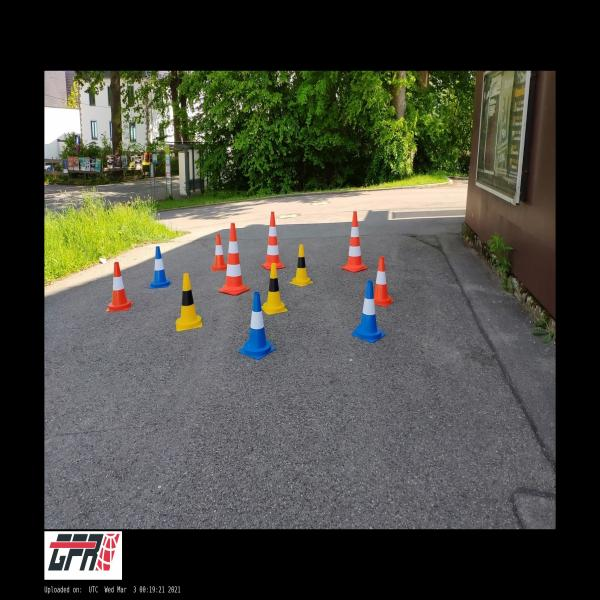blue_cone: (238, 292, 276, 359), (352, 280, 385, 342), (149, 246, 171, 289)
large_orange_cone: (219, 223, 249, 295), (341, 211, 368, 272), (262, 212, 285, 269)
orange_cone: (106, 262, 134, 312), (374, 257, 394, 307), (211, 234, 226, 270)
yellow_cone: (175, 274, 202, 331), (262, 263, 288, 314), (290, 244, 313, 286)
